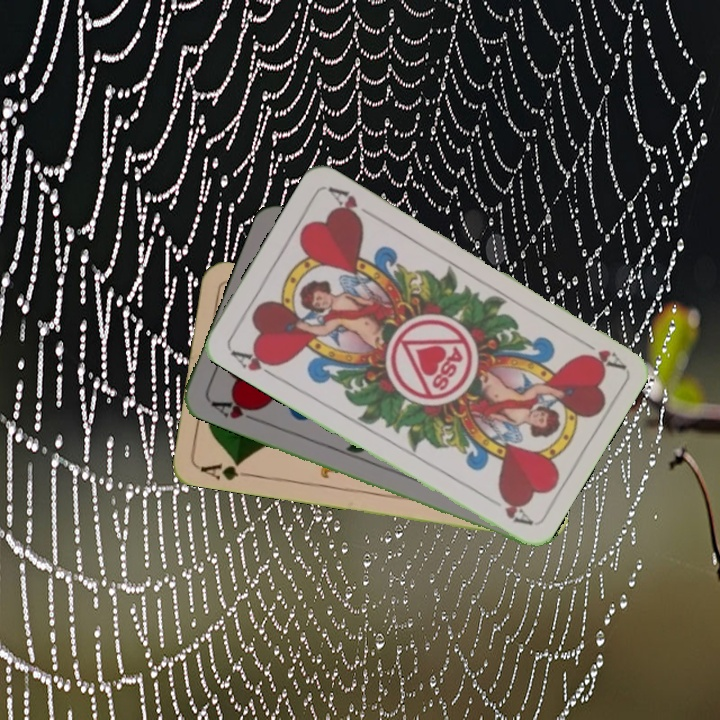GA: (196, 456, 255, 483)
HA: (572, 332, 626, 372), (227, 345, 282, 381), (206, 394, 264, 425)
